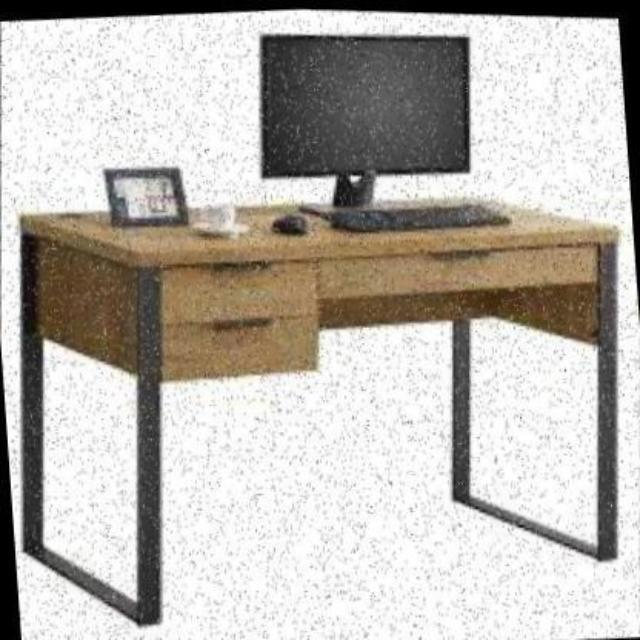komputer: (254, 35, 474, 217)
table: (27, 208, 620, 625)
